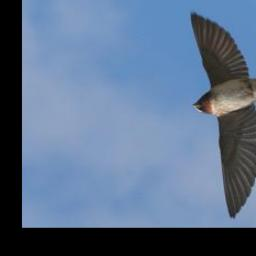Swallow: (189, 13, 256, 220)
